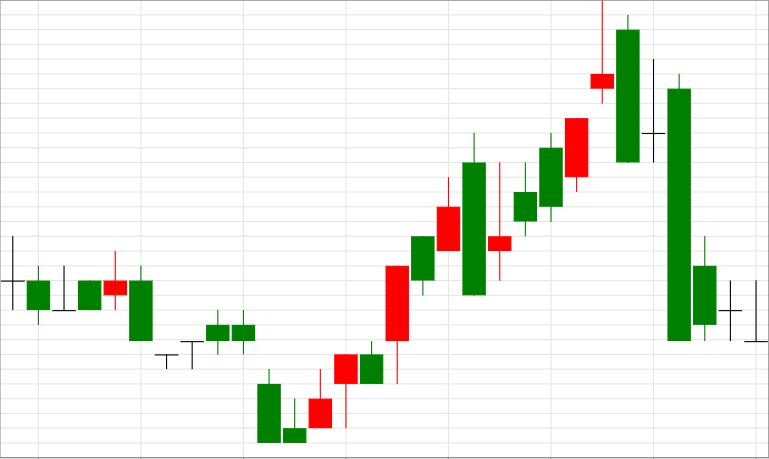bearish_engulfing_fall: (308, 132, 486, 428)
